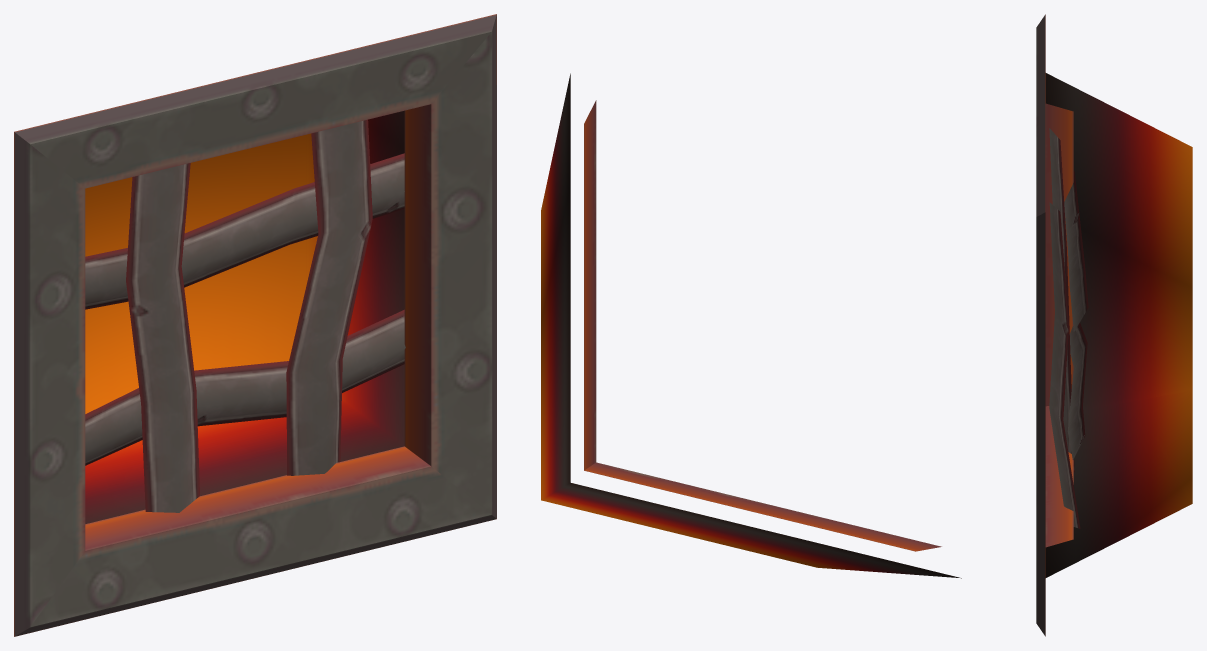
Rendered from tile_2x2.glb.
3 renders of one model, left to right at view 1: azimuth 30°, elevation 25°; view 2: azimuth 150°, elevation 25°; view 3: azimuth 270°, elevation 25°, orthographic. The views are drawn at different scales.
Parts seen in each view (by area): view 1: flame_grates.tile_2x2-MeshNodes["flame_pit_2x2"], flame_grates.tile_2x2-MeshNodes["flame_pit_2x2_bars"], flame_grates.tile_2x2-MeshNodes["flame_pit_2x2_pit"]; view 2: flame_grates.tile_2x2-MeshNodes["flame_pit_2x2_pit"], flame_grates.tile_2x2-MeshNodes["flame_pit_2x2"]; view 3: flame_grates.tile_2x2-MeshNodes["flame_pit_2x2_pit"], flame_grates.tile_2x2-MeshNodes["flame_pit_2x2"], flame_grates.tile_2x2-MeshNodes["flame_pit_2x2_bars"].
Part boxes in pixels (bbox=[...]): flame_grates.tile_2x2-MeshNodes["flame_pit_2x2"]: bbox=[14, 14, 496, 636]; flame_grates.tile_2x2-MeshNodes["flame_pit_2x2_bars"]: bbox=[85, 119, 405, 512]; flame_grates.tile_2x2-MeshNodes["flame_pit_2x2_pit"]: bbox=[85, 110, 404, 523]; flame_grates.tile_2x2-MeshNodes["flame_pit_2x2_pit"]: bbox=[541, 73, 961, 578]; flame_grates.tile_2x2-MeshNodes["flame_pit_2x2"]: bbox=[584, 100, 941, 551]; flame_grates.tile_2x2-MeshNodes["flame_pit_2x2_pit"]: bbox=[1045, 73, 1192, 577]; flame_grates.tile_2x2-MeshNodes["flame_pit_2x2"]: bbox=[1036, 14, 1073, 636]; flame_grates.tile_2x2-MeshNodes["flame_pit_2x2_bars"]: bbox=[1049, 128, 1088, 528].
Size of the model in its own units: 2.01 by 2.01 by 0.6696.
3 materials, 3 textured.
